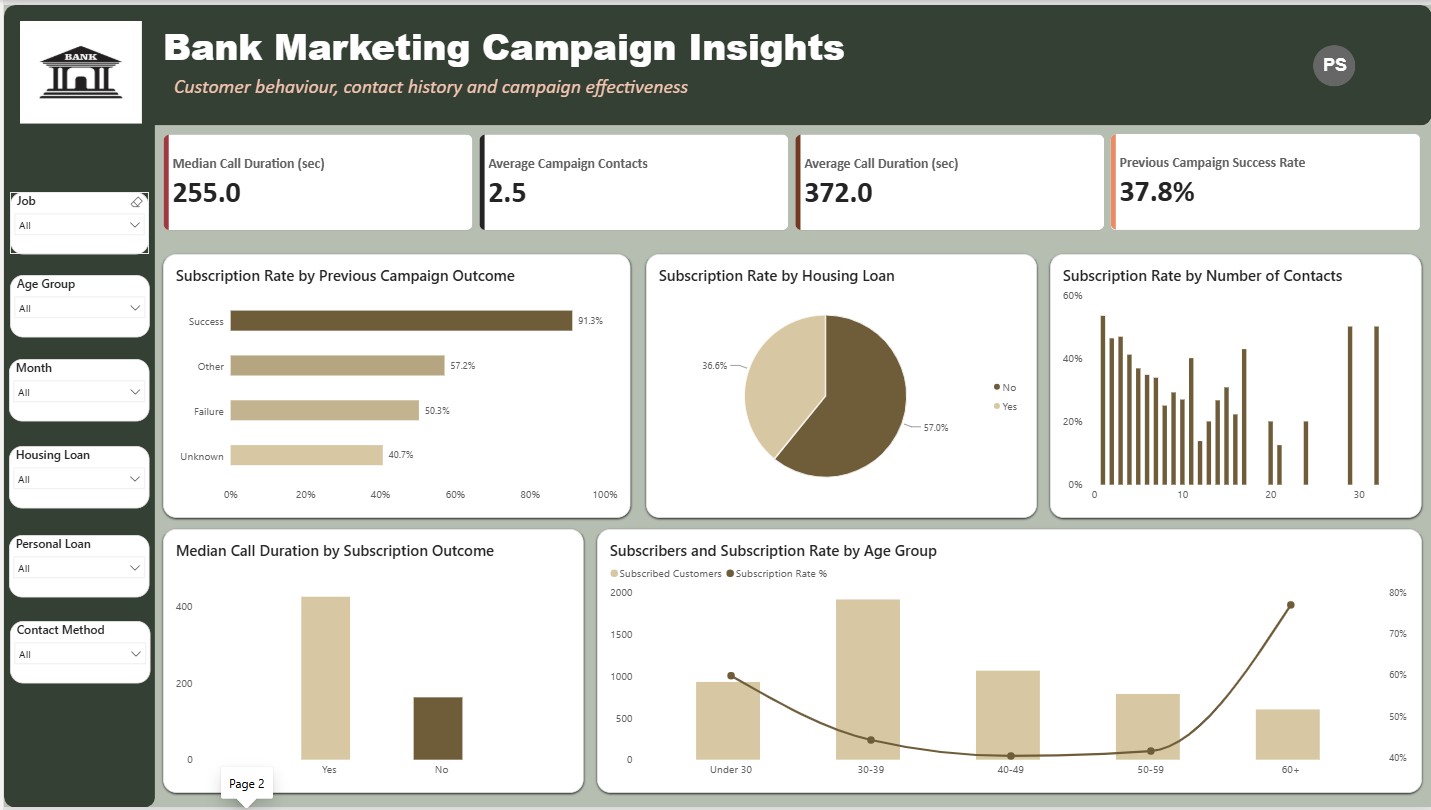

What the dashboard file says about the page in this screenshot:
{"tool":"powerbi","page":{"name":"Page 2","canvas":[1920,1080],"ordinal":1},"visuals":[{"type":"shape","box":[0,0,203.5,1080],"z":0},{"type":"shape","box":[163.6,0,1757,162.3],"z":1000},{"type":"clusteredBarChart","title":"Subscription Rate by Previous Campaign Outcome","fields":{"Category":["bank.poutcome"],"Y":["DAX Measures.Subscription Rate %"]},"box":[214.4,335.6,629.4,355.4],"z":2000},{"type":"lineStackedColumnComboChart","title":"Subscription Rate by Number of Contacts","fields":{"Category":["bank.campaign"],"Y":["DAX Measures.Subscription Rate %"]},"box":[1407.7,335.6,500.4,355.4],"z":3000},{"type":"columnChart","title":"Median Call Duration by Subscription Outcome","fields":{"Category":["bank.deposit"],"Y":["DAX Measures.Median Call Duration"]},"box":[214.4,704.9,565.9,355.4],"z":4000},{"type":"pieChart","title":"Subscription Rate by Housing Loan","fields":{"Category":["bank.housing"],"Y":["DAX Measures.Subscription Rate %"]},"box":[863.7,335.6,526.2,355.4],"z":5000},{"type":"lineStackedColumnComboChart","title":"Subscribers and Subscription Rate by Age Group","fields":{"Category":["bank.Age Group"],"Y":["DAX Measures.Subscribed Customers"],"Y2":["DAX Measures.Subscription Rate %"]},"box":[798.2,704.9,1109.9,355.4],"z":6000},{"type":"cardVisual","fields":{"Data":["DAX Measures.Median Call Duration","DAX Measures.Avg Campaign Contacts","DAX Measures.Avg Call Duration","DAX Measures.Previous Campaign Success Rate %"]},"box":[214.1,172.9,1693.2,130.3],"z":7000},{"type":"slicer","fields":{"Values":["bank.job"]},"box":[8,251.6,187.4,84],"z":8000},{"type":"slicer","fields":{"Values":["bank.Age Group"]},"box":[7.7,363,187.7,84],"z":9000},{"type":"slicer","fields":{"Values":["bank.month"]},"box":[7.2,476.5,189.1,84],"z":10000},{"type":"slicer","fields":{"Values":["bank.housing"]},"box":[6.6,592.8,188.8,83.7],"z":11000},{"type":"slicer","fields":{"Values":["bank.loan"]},"box":[6.6,712.6,188.8,83.7],"z":12000},{"type":"slicer","fields":{"Values":["bank.contact"]},"box":[8,828.6,188.9,83.8],"z":13000},{"type":"textbox","box":[214.1,21.3,948.3,71.8],"z":14000},{"type":"textbox","box":[228.8,93.1,873.8,42.6],"z":14001},{"type":"image","box":[21.3,21.3,163.6,138.3],"z":14002},{"type":"shape","box":[1761,53.2,57.2,55.9],"z":14003},{"type":"textbox","box":[1774.3,67.8,43.9,41.2],"z":14004}]}

Visuals, with their boxes in screenshot pixels (x1, y1, x2, y2), scaled from the page's 1920x1080 canvas onto the 1431x810 screenshot:
shape: [0, 0, 152, 809]
shape: [122, 0, 1430, 122]
"Subscription Rate by Previous Campaign Outcome" clusteredBarChart: [160, 252, 629, 518]
"Subscription Rate by Number of Contacts" lineStackedColumnComboChart: [1049, 252, 1422, 518]
"Median Call Duration by Subscription Outcome" columnChart: [160, 529, 582, 795]
"Subscription Rate by Housing Loan" pieChart: [644, 252, 1036, 518]
"Subscribers and Subscription Rate by Age Group" lineStackedColumnComboChart: [595, 529, 1422, 795]
cardVisual - DAX Measures.Median Call Duration x DAX Measures.Avg Campaign Contacts: [160, 130, 1422, 227]
slicer - bank.job: [6, 189, 146, 252]
slicer - bank.Age Group: [6, 272, 146, 335]
slicer - bank.month: [5, 357, 146, 420]
slicer - bank.housing: [5, 445, 146, 507]
slicer - bank.loan: [5, 534, 146, 597]
slicer - bank.contact: [6, 621, 147, 684]
textbox: [160, 16, 866, 70]
textbox: [171, 70, 822, 102]
image: [16, 16, 138, 120]
shape: [1312, 40, 1355, 82]
textbox: [1322, 51, 1355, 82]
